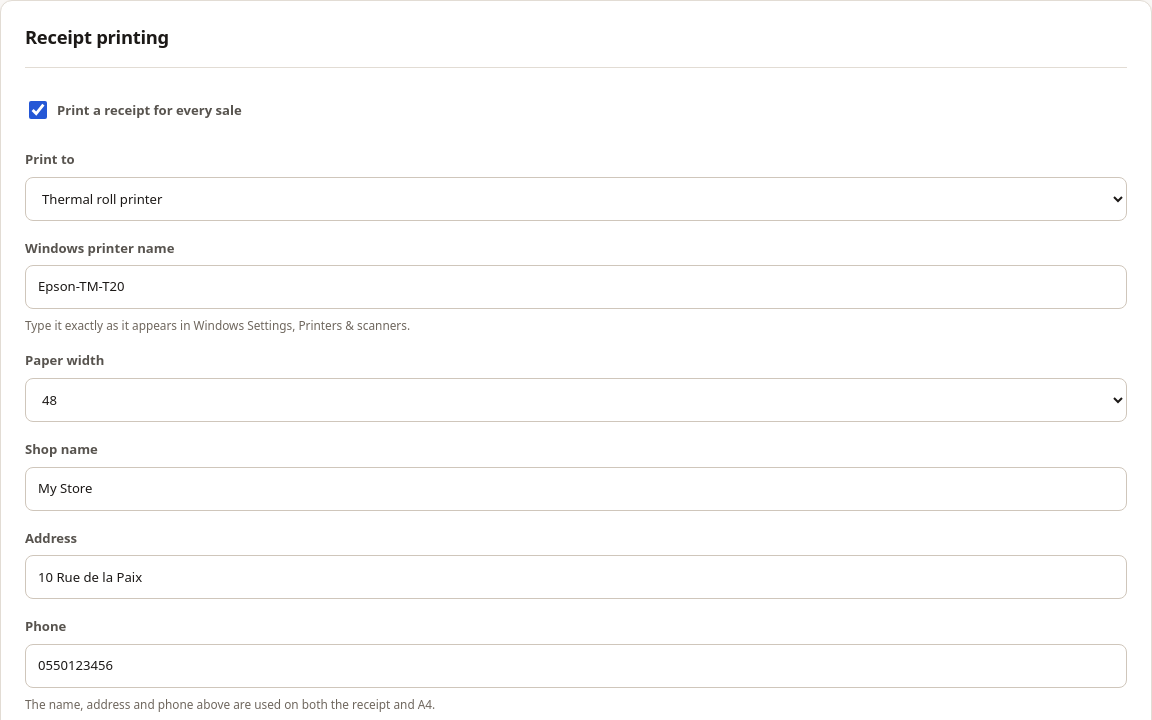
Test case: WS-F-2 Printing Settings workflow › changing the target to A4 hides printing-printer-name
The image size is (1152, 720).
Expected: the checkbox with test id "printing-enabled" is shown, [29,101,47,119]
Expected: the field with test id "printing-printer-name" is shown, [25,265,1127,309]
Select "A4 printer" in the dropdown with test id "printing-target" at (576,199), box [25,177,1127,221]
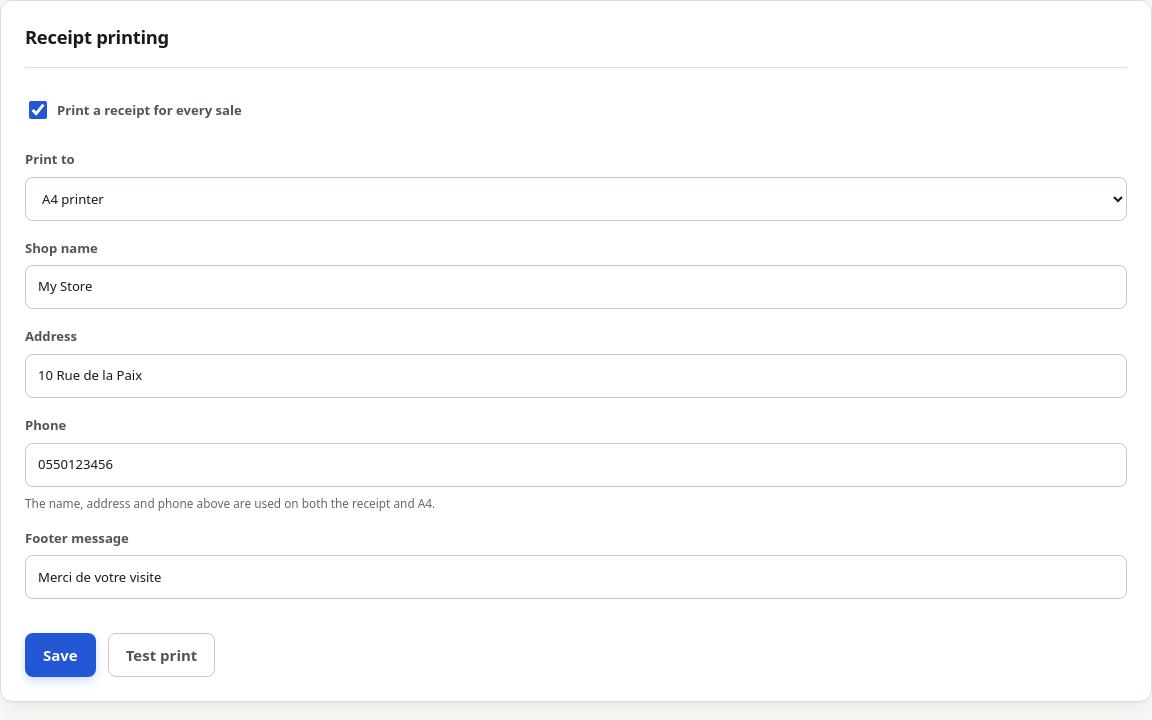
Now the label with test id "printing-printer-name" is gone
